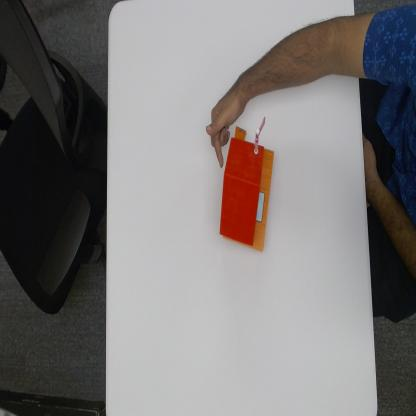Arm: (255, 14, 359, 93)
Hand: (208, 78, 253, 164)
House: (222, 124, 274, 250)
